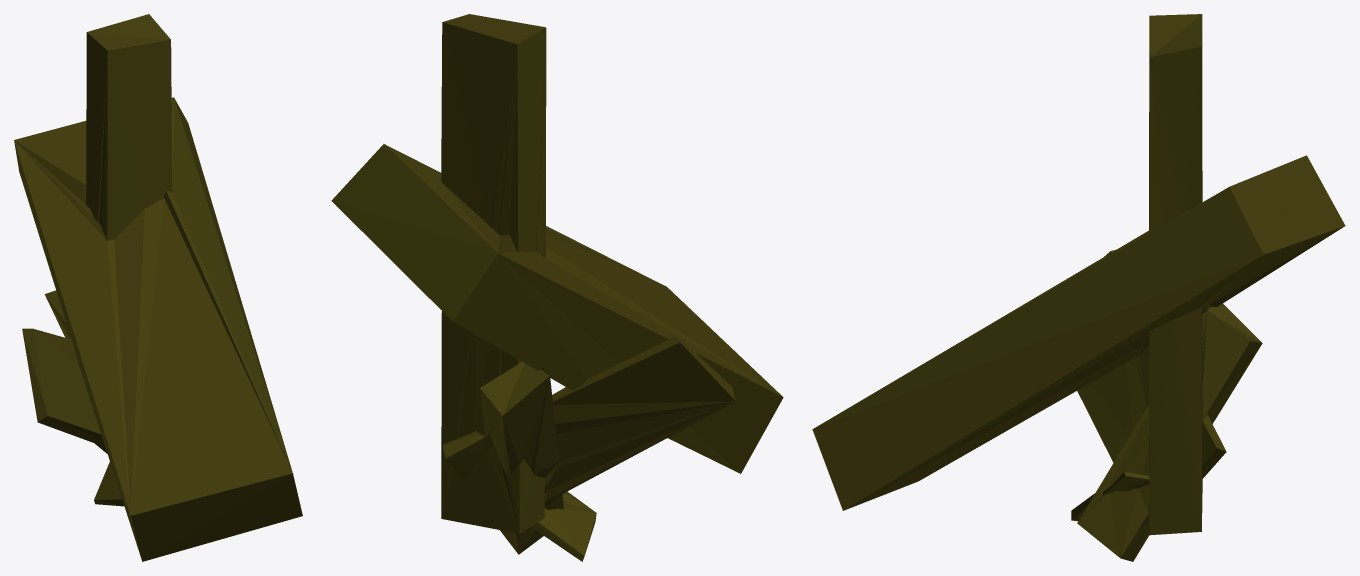
3 views of the same model, side by side, from view 1: azimuth 30°, elevation 25°; view 2: azimuth 150°, elevation 25°; view 3: azimuth 270°, elevation 25° (orthographic). The views are drawn at different scales.
Parts seen in each view (by area): view 1: 411_Cube.1669; view 2: 411_Cube.1669; view 3: 411_Cube.1669.
Part boxes in pixels (x1,y1,x2,y2): 411_Cube.1669: [14, 14, 302, 561]; 411_Cube.1669: [331, 14, 783, 561]; 411_Cube.1669: [812, 14, 1345, 561].
Bounding box in the file's own units: 7.52 × 13.42 × 12.12.
